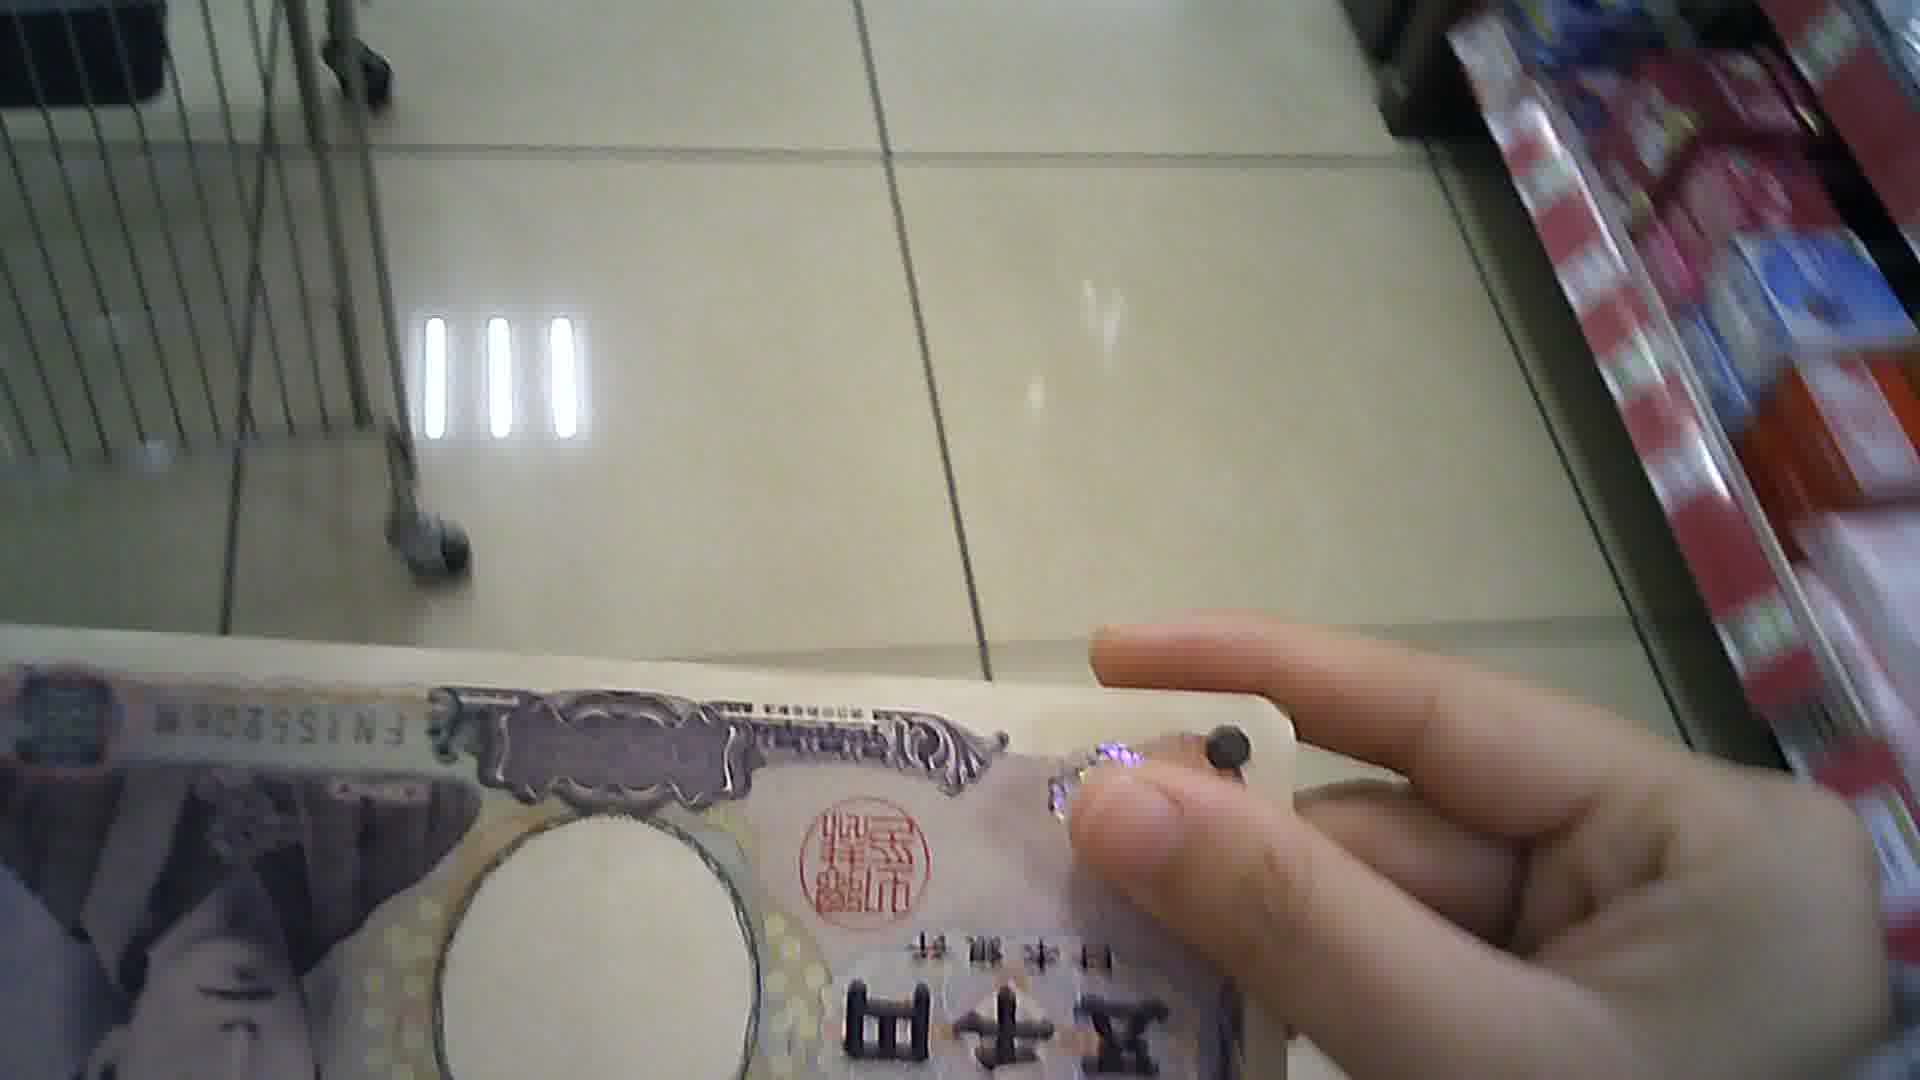5,000 Yen: (5, 596, 1298, 1079)
